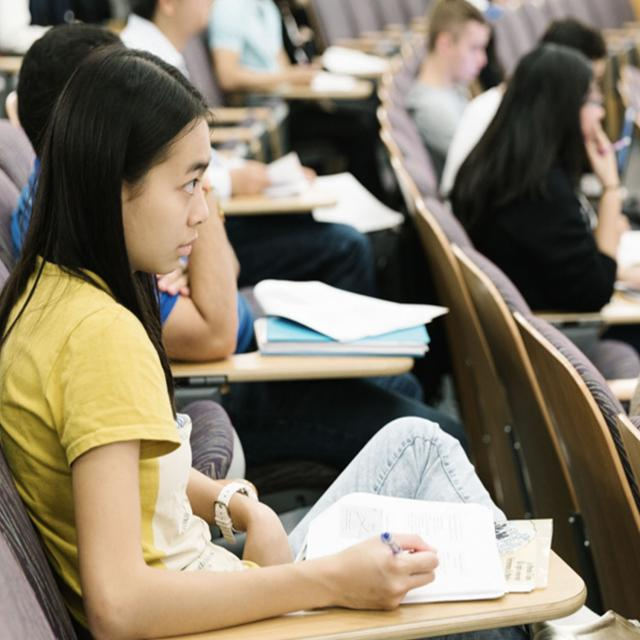body: (0, 41, 627, 640), (7, 21, 479, 497), (210, 72, 447, 404), (446, 41, 640, 380), (437, 15, 616, 206), (437, 15, 610, 201), (18, 0, 392, 73), (474, 19, 523, 96)
